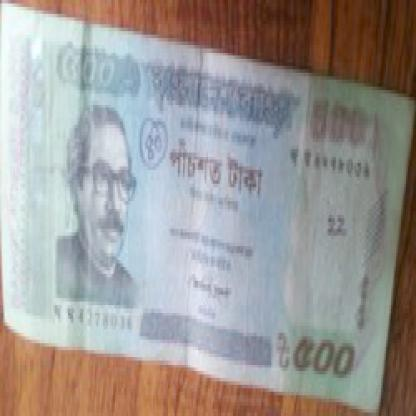500 taka: (166, 125, 278, 222), (38, 24, 130, 97)
currency: (3, 4, 414, 412)
